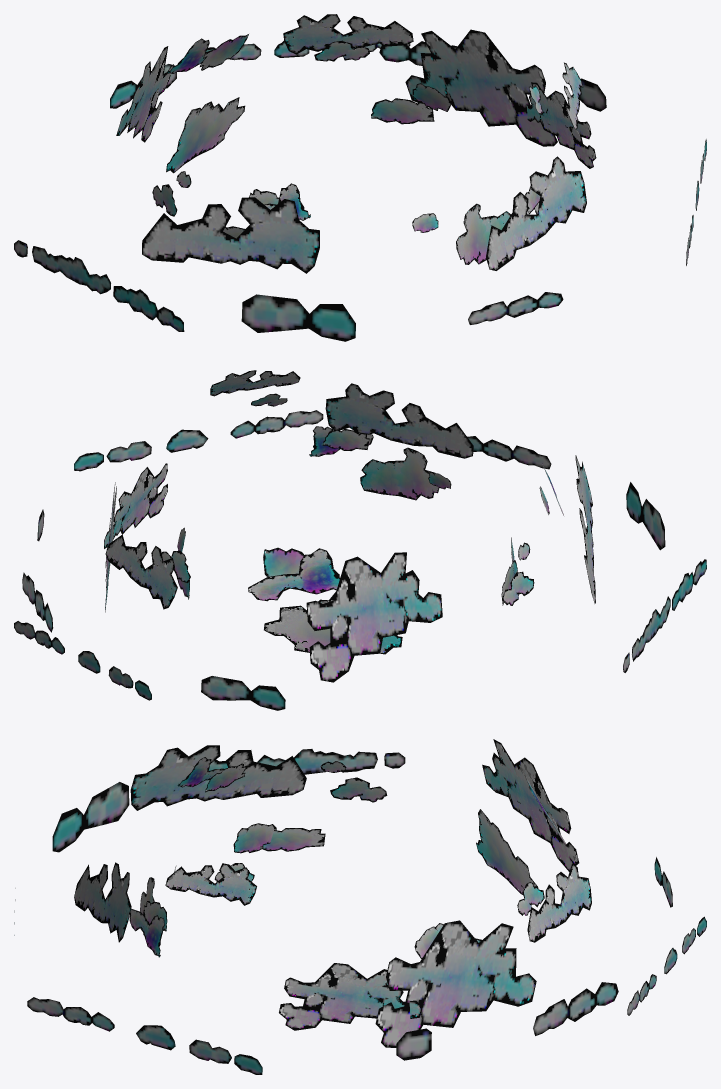
Rendered from objects_un_cloud02.gltf.
The picture shows the model from 3 angles, top to bottom: view 1: azimuth 30°, elevation 25°; view 2: azimuth 150°, elevation 25°; view 3: azimuth 270°, elevation 25°; orthographic projection. The views are drawn at different scales.
Parts seen in each view (by area): view 1: objects_un_cloud02; view 2: objects_un_cloud02; view 3: objects_un_cloud02.
Part boxes in pixels (x1,y1,x2,y2): objects_un_cloud02: (14, 14, 706, 341); objects_un_cloud02: (14, 370, 706, 710); objects_un_cloud02: (14, 739, 706, 1074).
Size of the model in its own units: 15134 by 3509 by 14272.
1 material, 1 textured.
